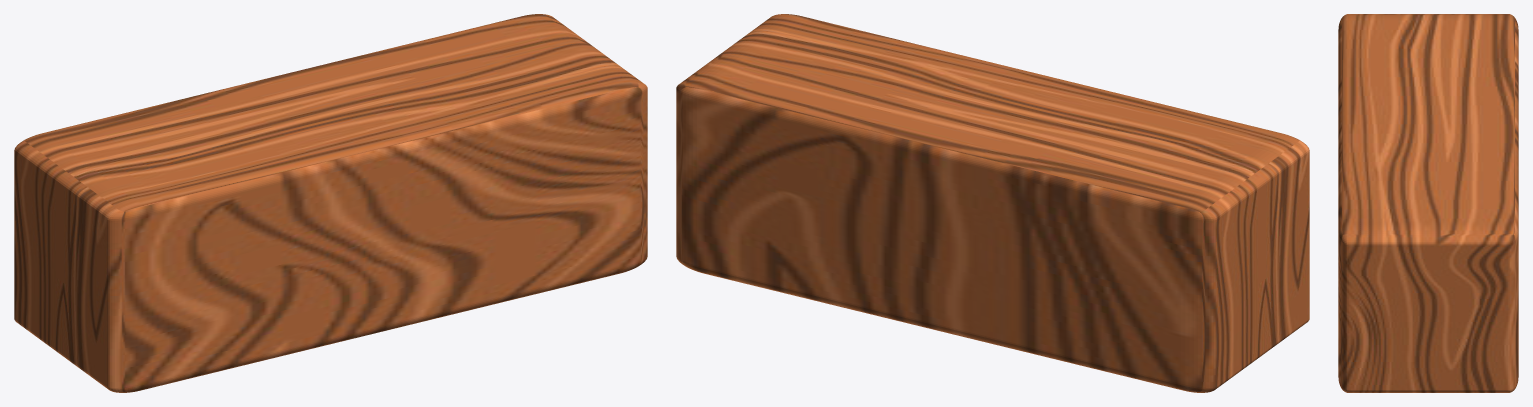
Rendered from wood_triple_box.fbx.
The picture shows the model from 3 angles, left to right: view 1: azimuth 30°, elevation 25°; view 2: azimuth 150°, elevation 25°; view 3: azimuth 270°, elevation 25°; orthographic projection. The views are drawn at different scales.
Parts seen in each view (by area): view 1: Cube; view 2: Cube; view 3: Cube.
Part boxes in pixels (bbox=[...]): Cube: bbox=[14, 14, 647, 392]; Cube: bbox=[676, 14, 1309, 392]; Cube: bbox=[1338, 14, 1518, 392].
Bounding box in the file's own units: 600 × 200 × 200.
